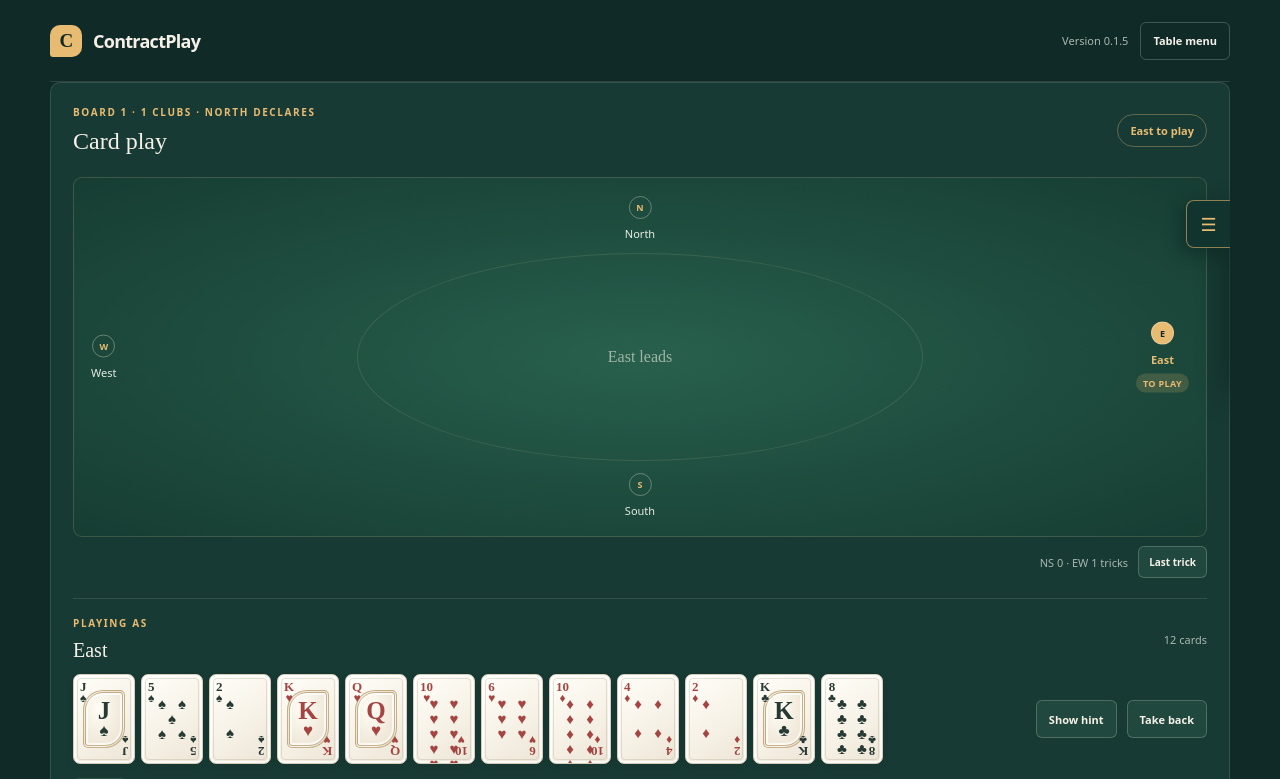
Test: bridge table › shows the most recently completed trick on demand
Click the button "Last trick" at (1173, 562), box x1=1138 y1=546 x2=1207 y2=578
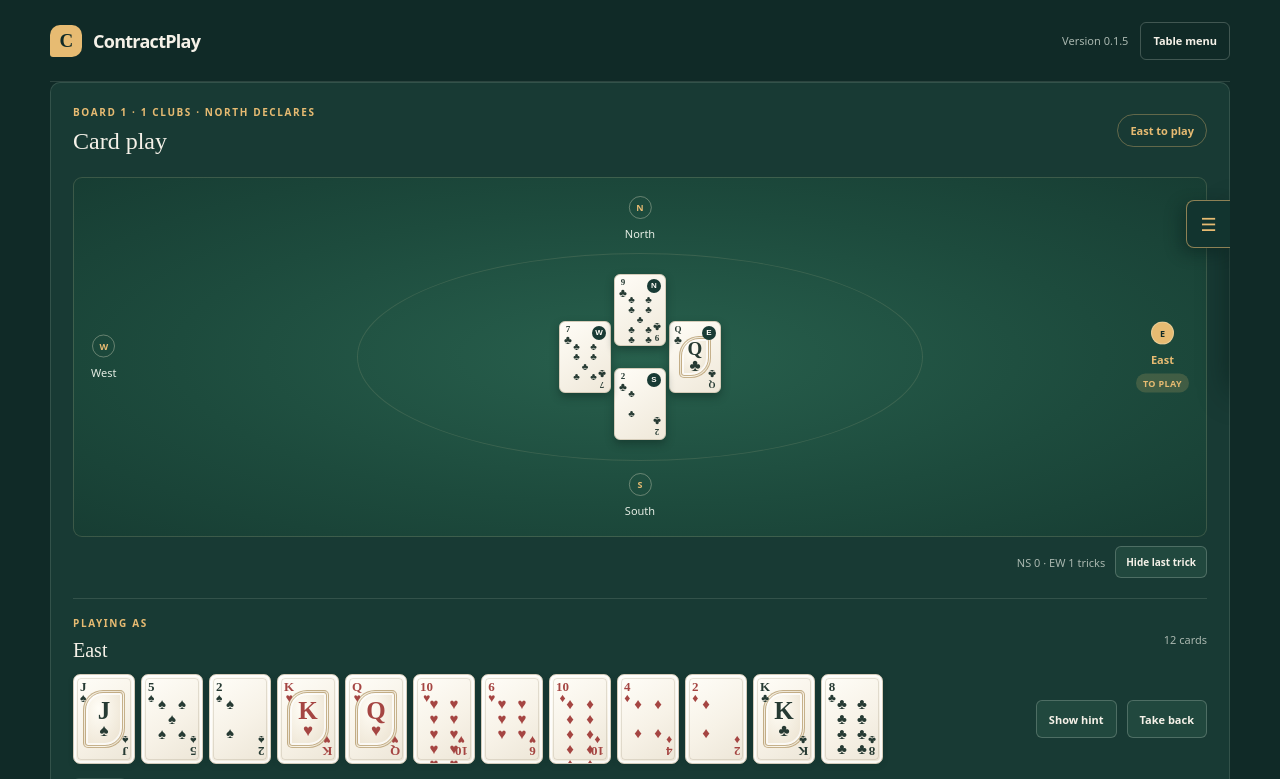
Now the number of pictures with class "trick-card" is 4, box x1=669 y1=321 x2=721 y2=393; x1=614 y1=368 x2=666 y2=440; x1=559 y1=321 x2=611 y2=393; x1=614 y1=274 x2=666 y2=346
Click the button "Hide last trick" at (1161, 562), box x1=1115 y1=546 x2=1207 y2=578
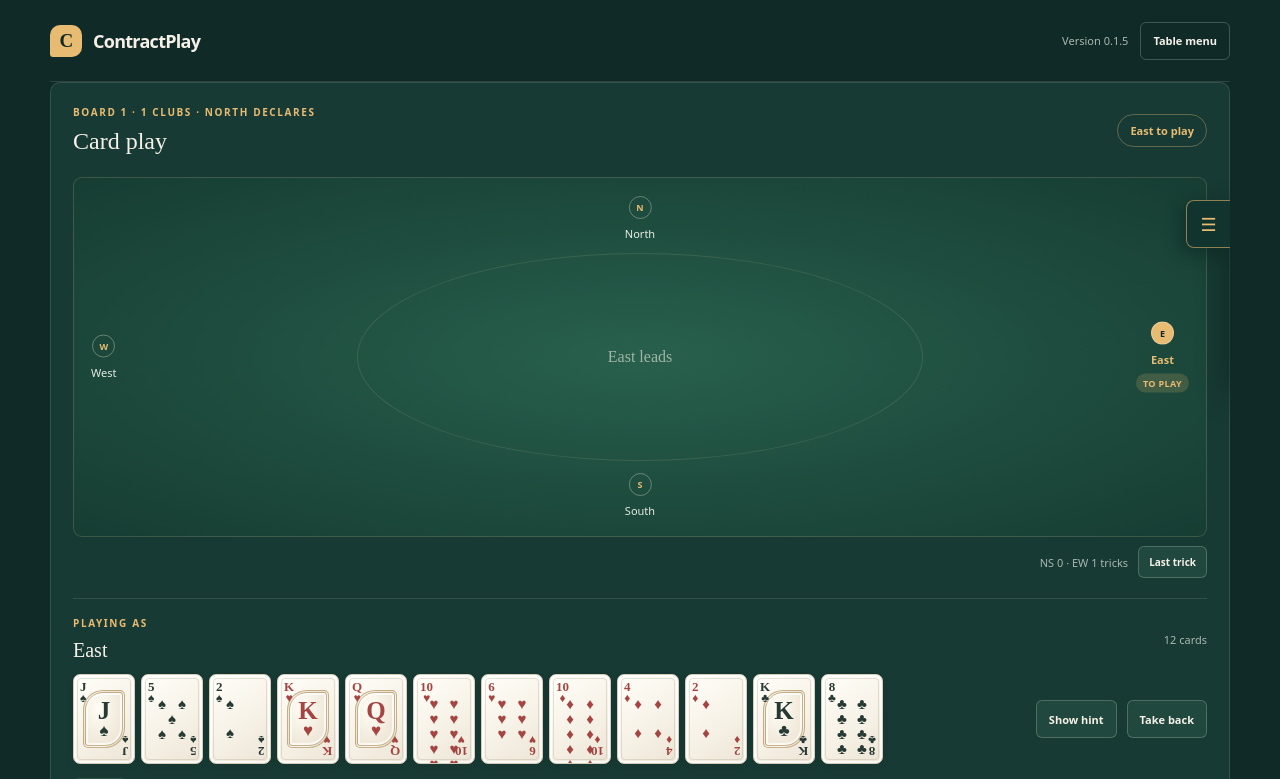
Now no pictures with class "trick-card" are shown
